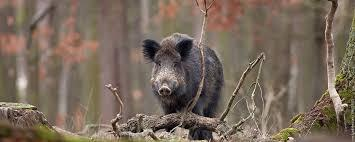wildboar: (139, 30, 228, 139)
